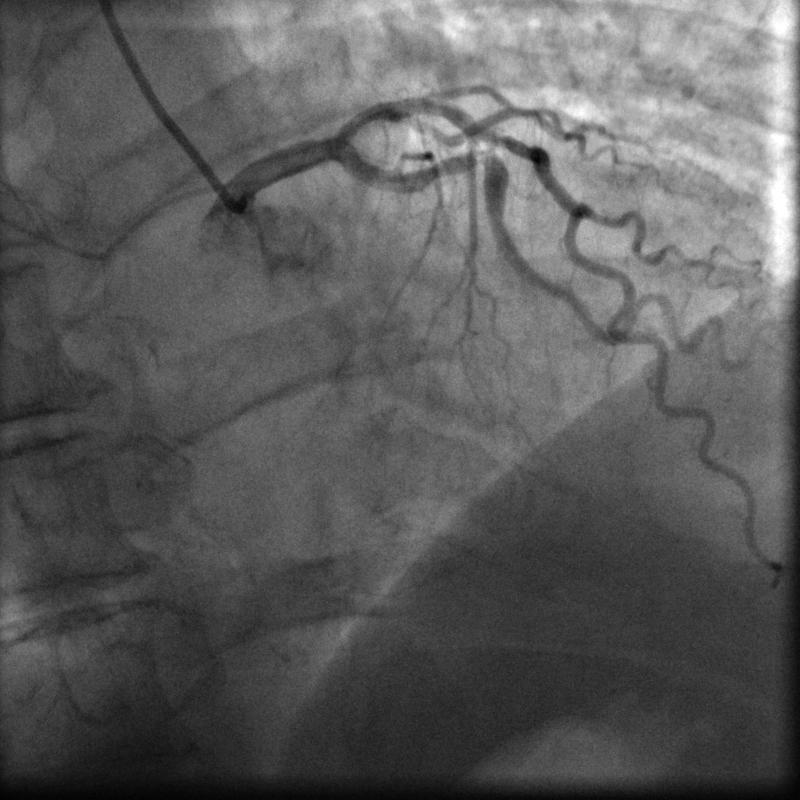Stenosis: (450, 148, 505, 174)
